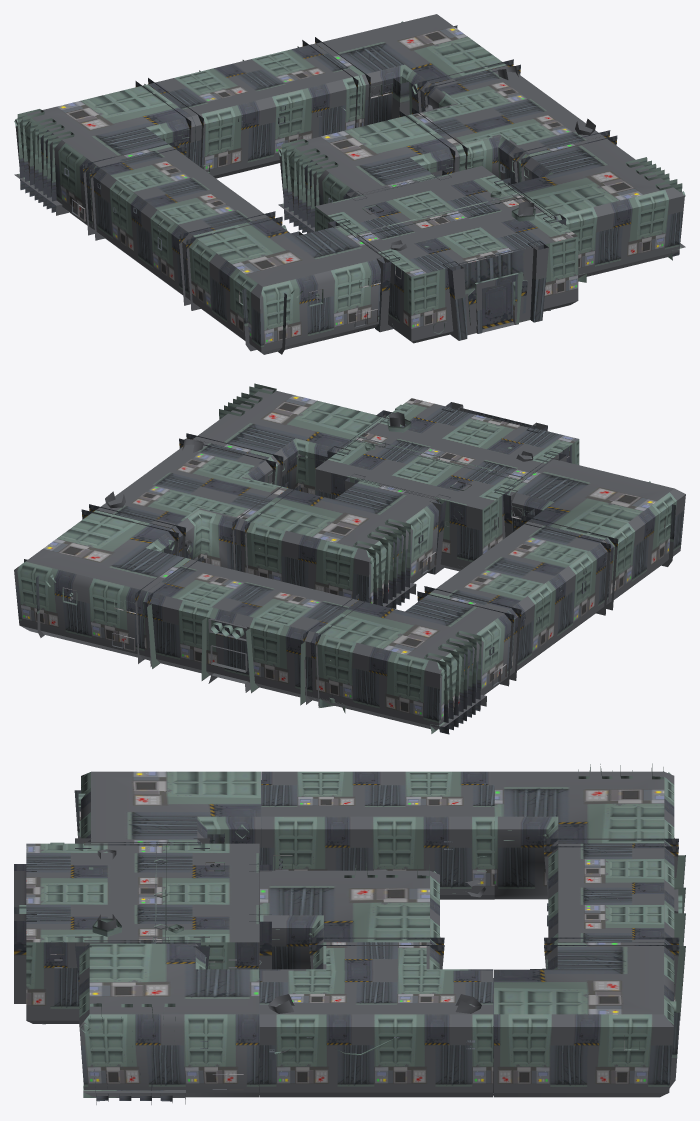
Rendered from Combined_Mesh_root_scene__20_a4a1e6c2__zombies2_diffuse_06_4771cff4_c1f257.obj.
3 renders of one model, top to bottom at view 1: azimuth 30°, elevation 25°; view 2: azimuth 150°, elevation 25°; view 3: azimuth 270°, elevation 25°, orthographic. The views are drawn at different scales.
Bounding box in the file's own units: 51.83 × 9.64 × 57.56.
Materials: 132 (132 with a texture image).
